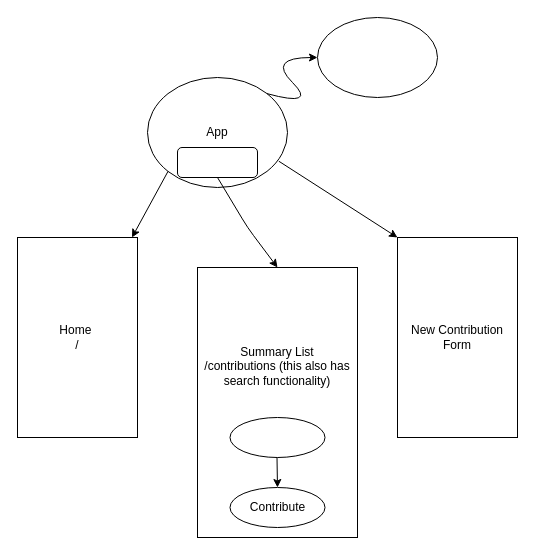
Image size: 535x555. Some labels were removed from this diagram. Each missing label, with the box of its shape:
Contribute Control: (229, 416, 325, 458)
Navbar Renders on all children: (316, 16, 438, 98)
Routes: (176, 146, 258, 178)
